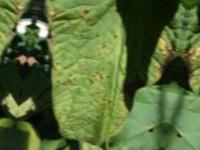Tomato Septoria leaf spot: (17, 0, 158, 150)
